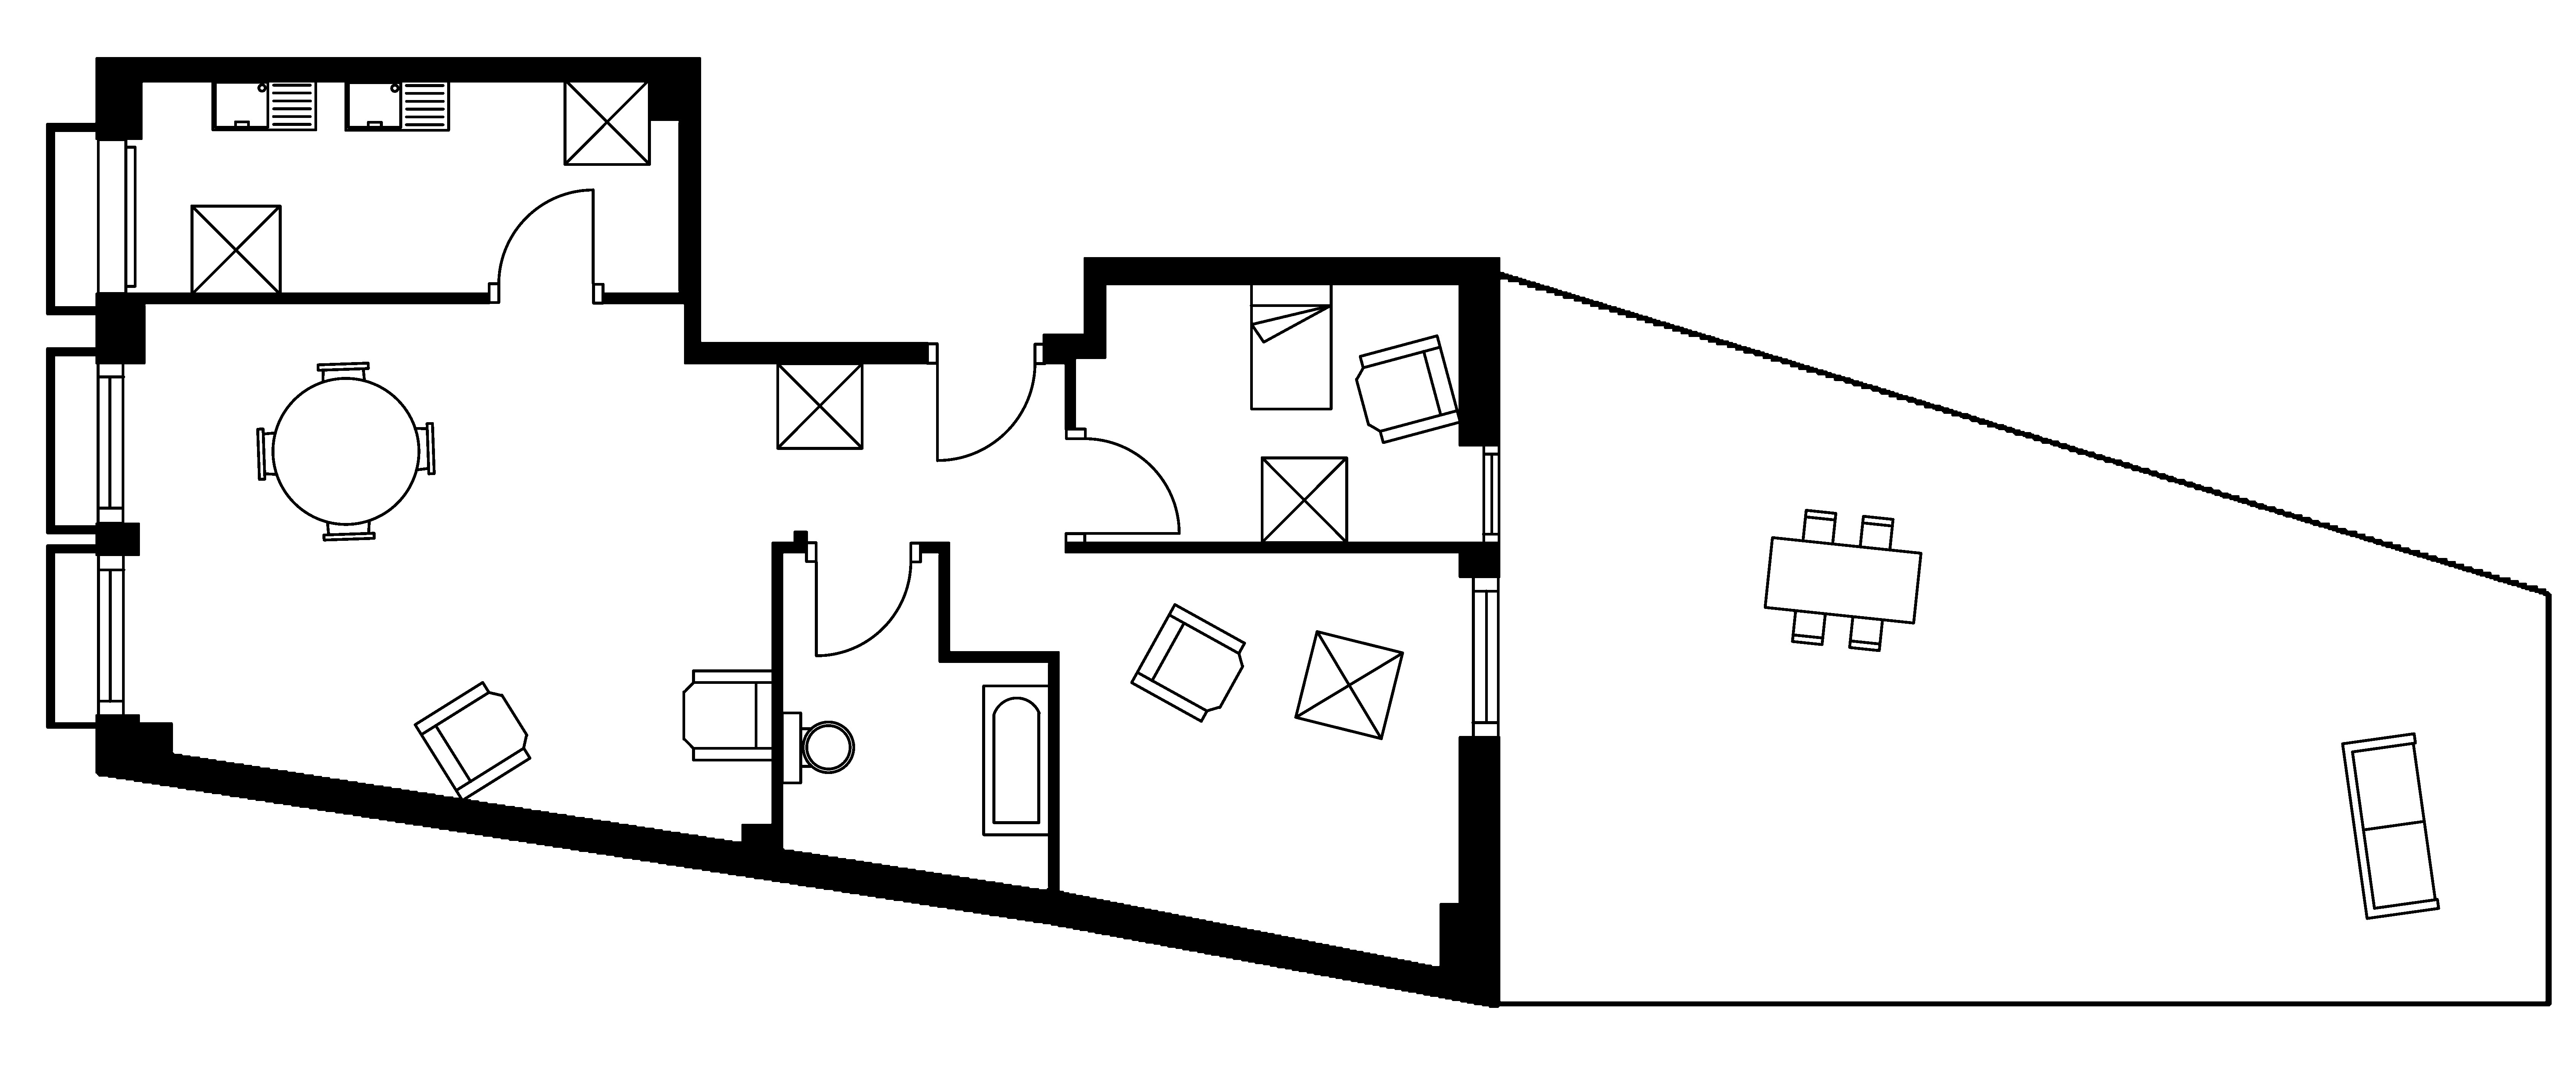armchair: (412, 681, 532, 803), (1129, 602, 1245, 724), (1354, 334, 1462, 444), (682, 669, 774, 761)
bed: (1249, 281, 1332, 411)
coffee_table: (1293, 630, 1405, 740), (189, 204, 281, 296), (562, 77, 651, 166), (775, 362, 864, 451), (1260, 456, 1349, 544)
dining_table: (1763, 508, 1922, 653)
large_sink: (780, 710, 854, 784)
large_sofa: (2341, 732, 2440, 919)
round_table: (256, 360, 435, 541)
sink: (343, 77, 450, 132), (210, 77, 317, 132)
tub: (981, 684, 1051, 837)
